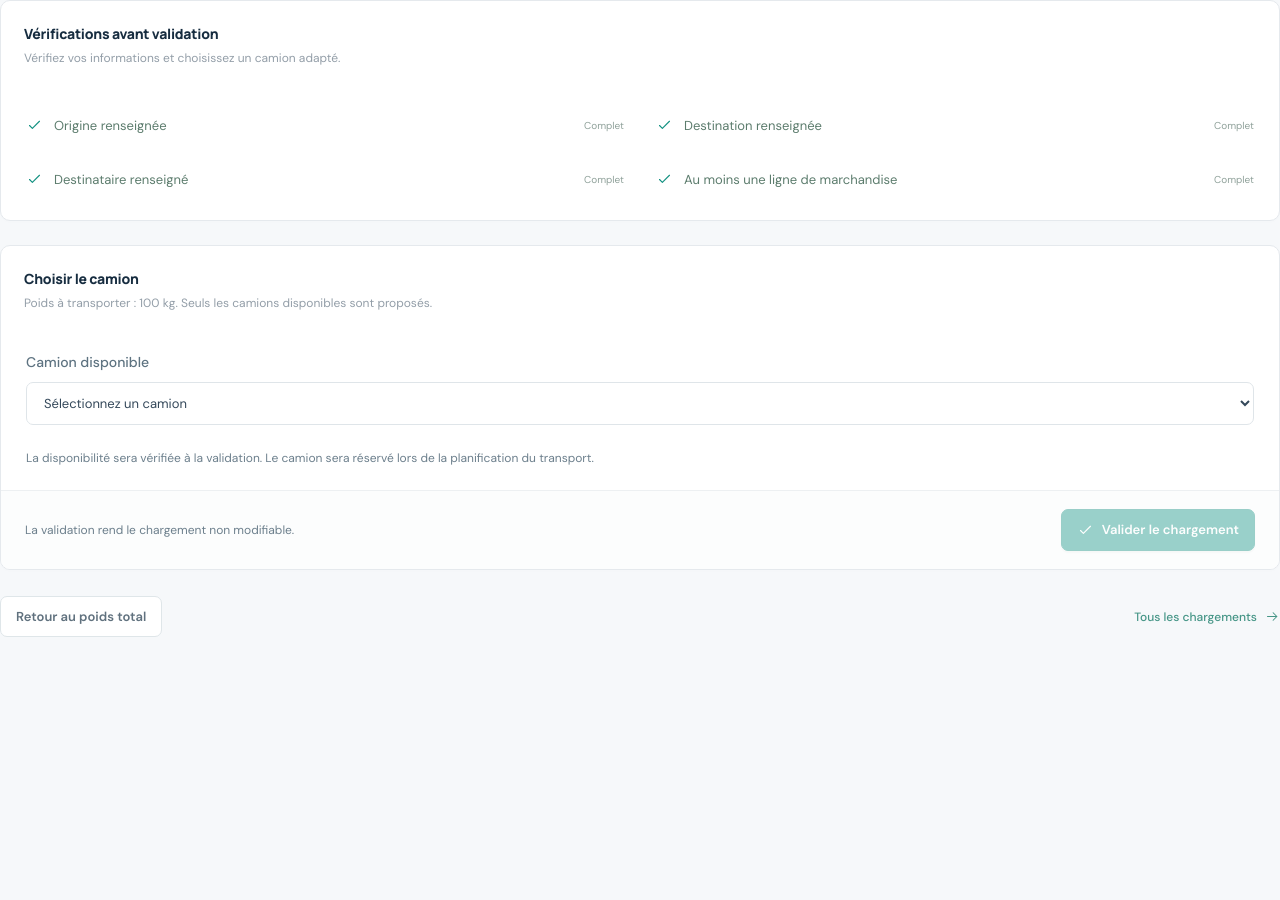
Test: explique un refus serveur sans afficher un faux succès
Select "12345-A-1 · 100 kg" in the dropdown labelled "Camion disponible" at x=640, y=404, box [26, 382, 1254, 425]
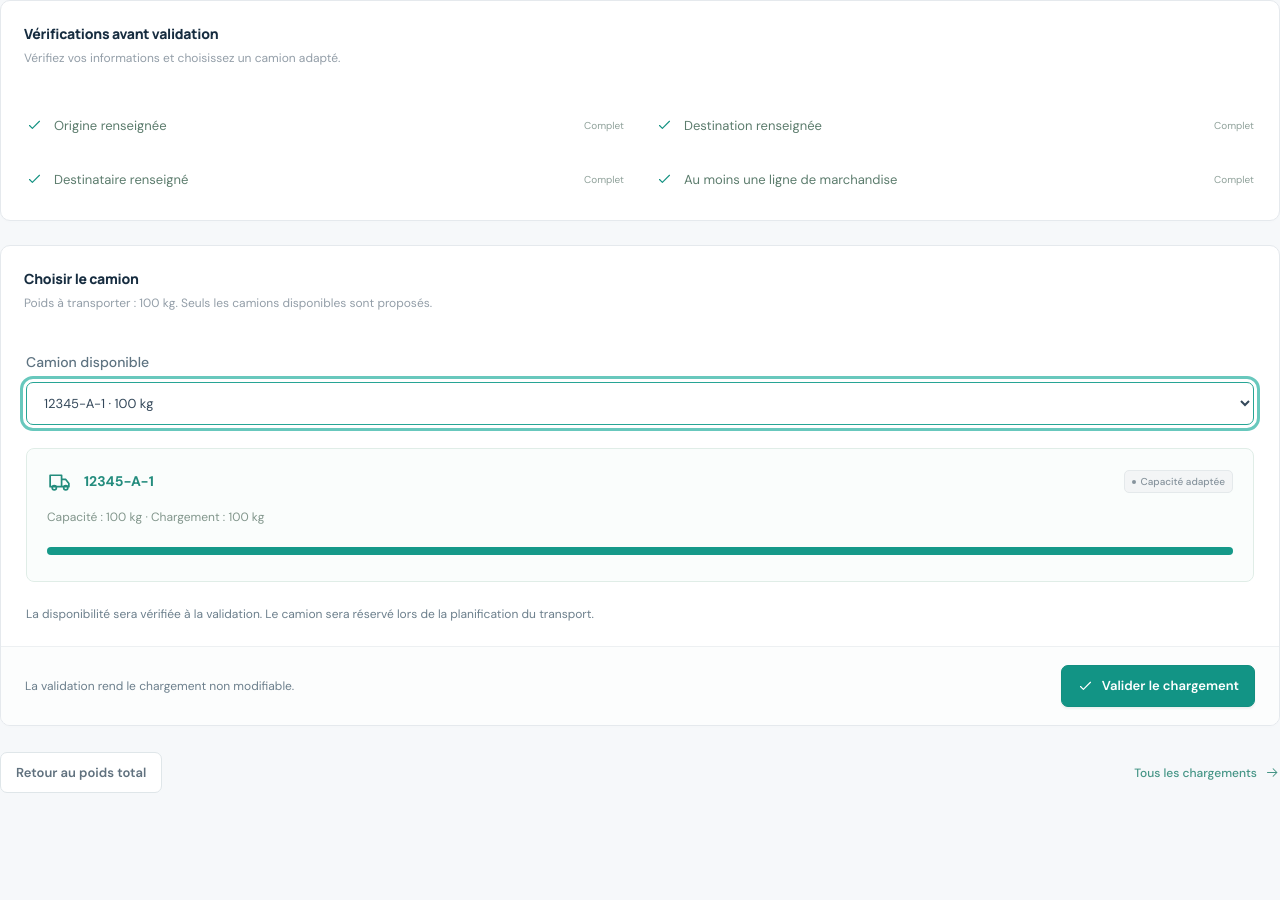
Click the button "Valider le chargement" at x=1158, y=686, box [1061, 665, 1255, 707]
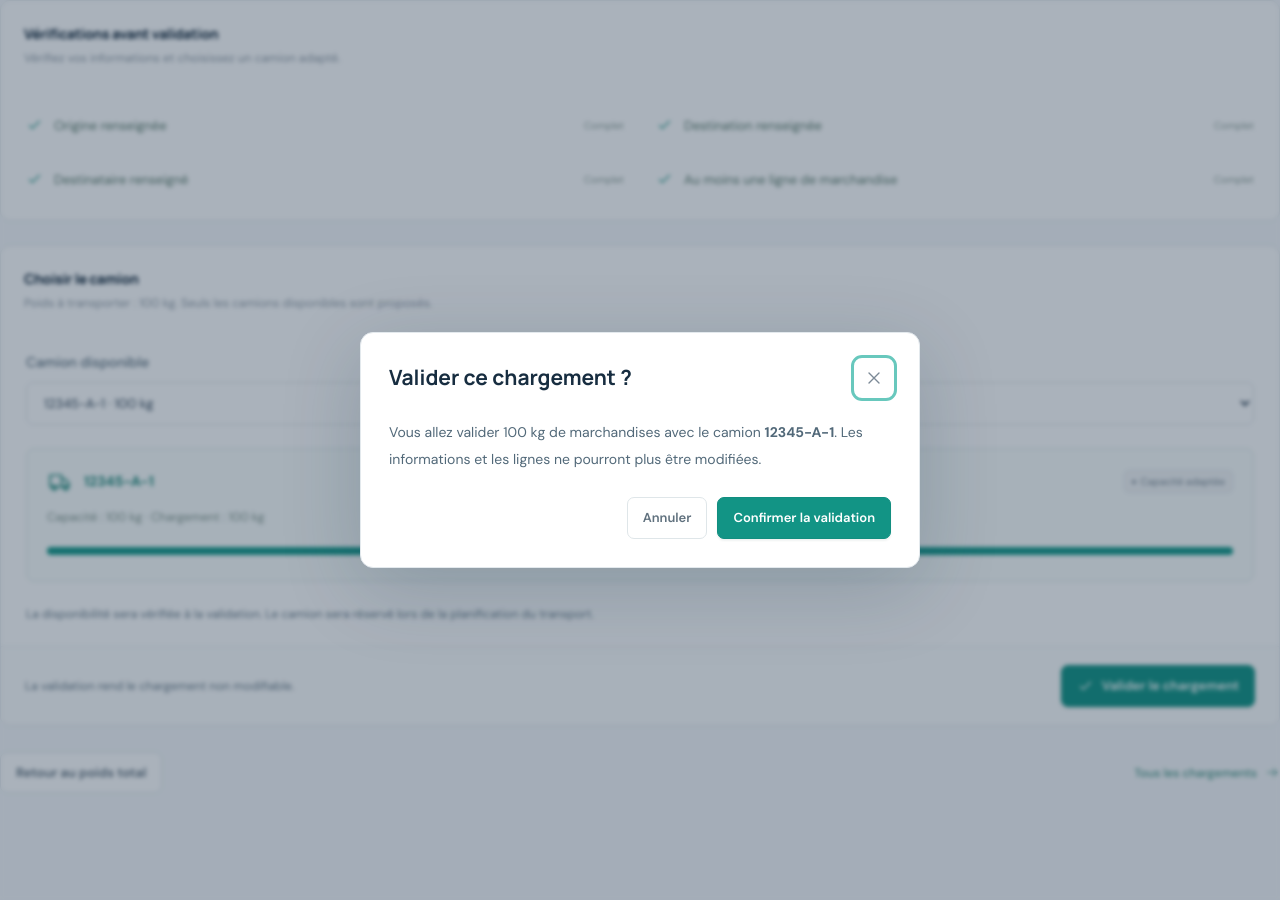
Click the button "Confirmer la validation" at x=804, y=518, box [718, 497, 891, 539]
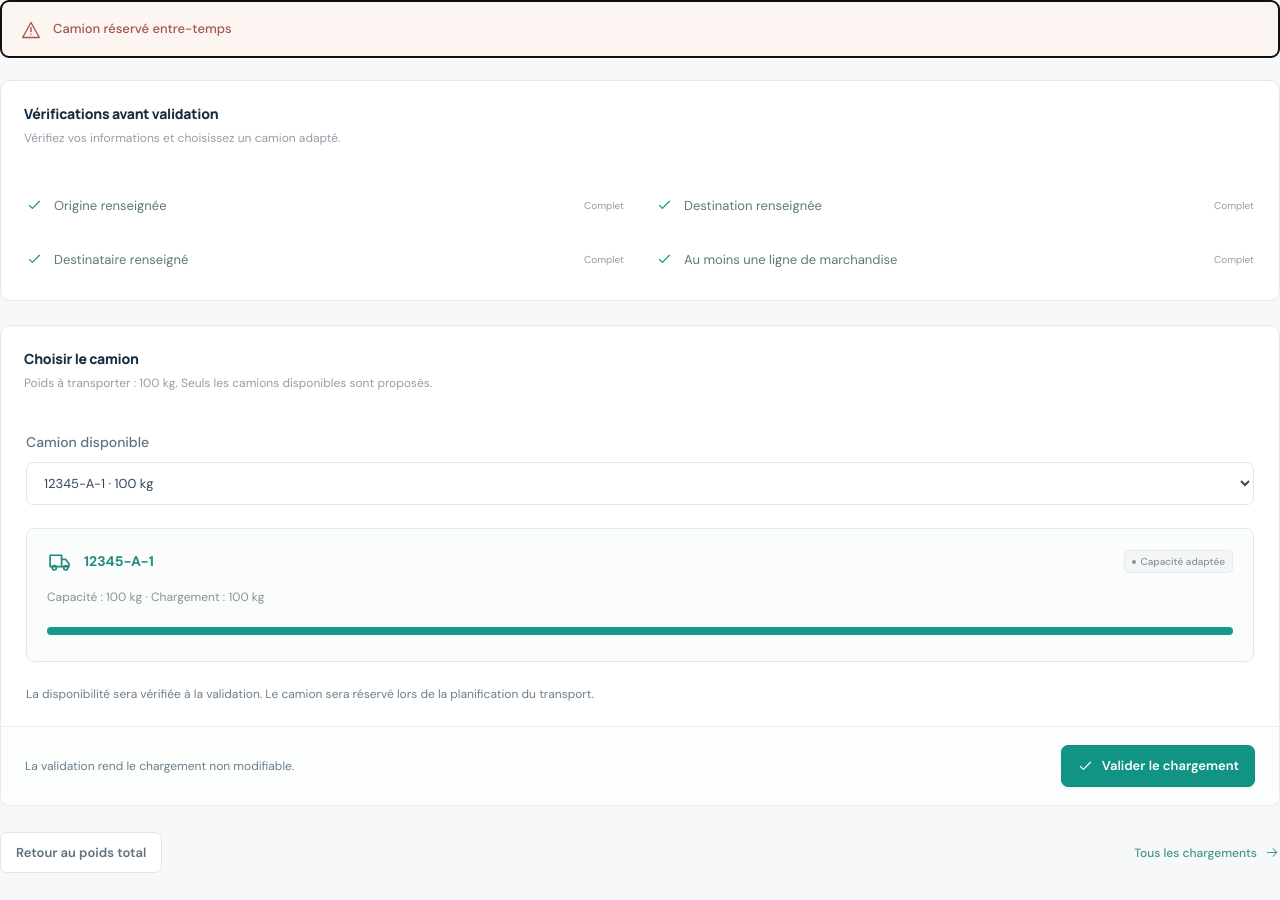
Check: the message reads "Camion réservé entre-temps", box [53, 20, 232, 37]
